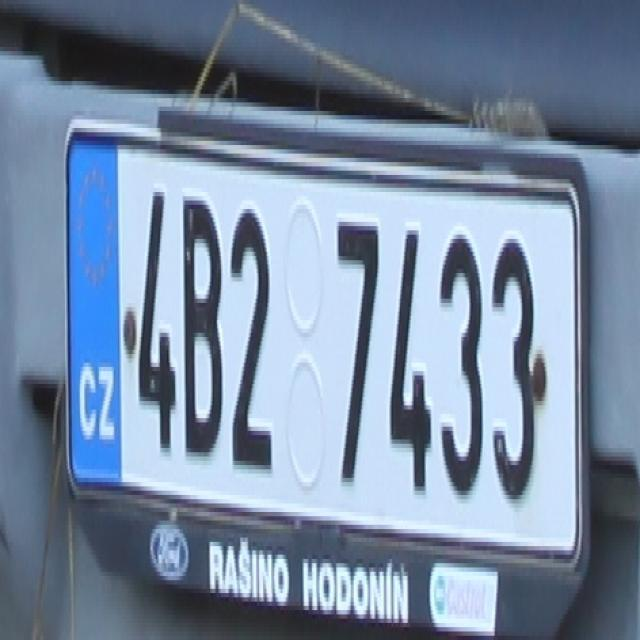2: (228, 201, 272, 474)
3: (488, 234, 537, 503), (436, 230, 484, 495)
4: (385, 218, 434, 496), (136, 184, 176, 452)
7: (331, 205, 380, 500)
B: (179, 179, 224, 457)
